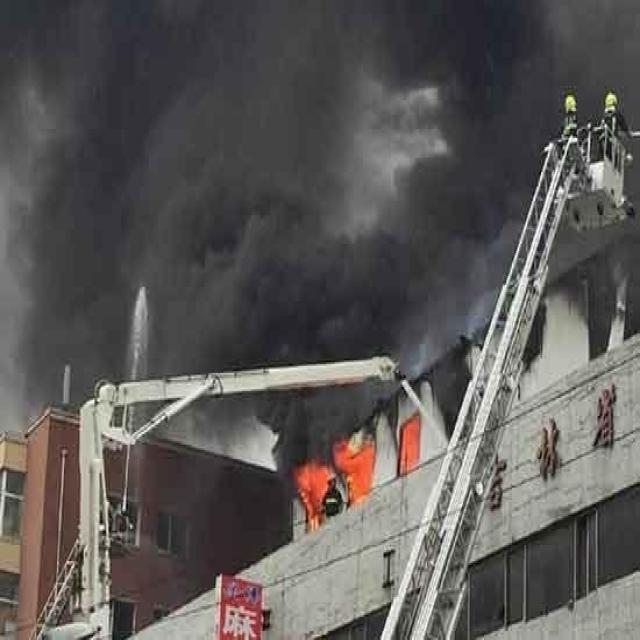Fire: (292, 436, 376, 534), (396, 416, 420, 477)
Smoke: (1, 2, 640, 500)
